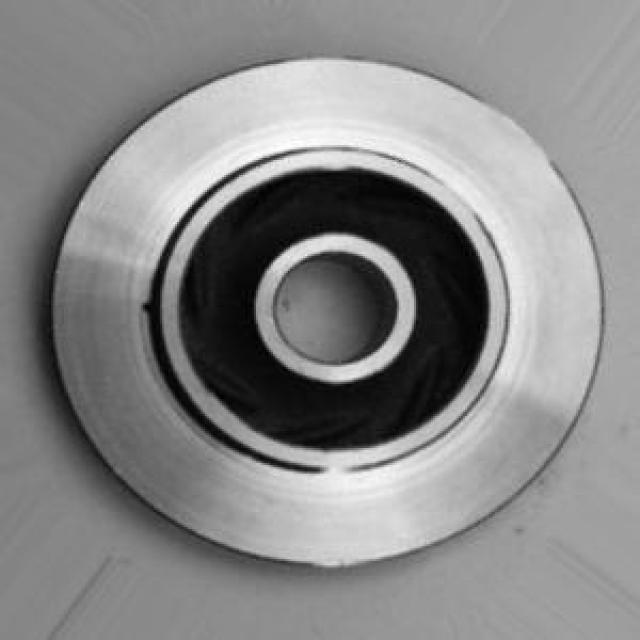Defect: (128, 288, 167, 326)
